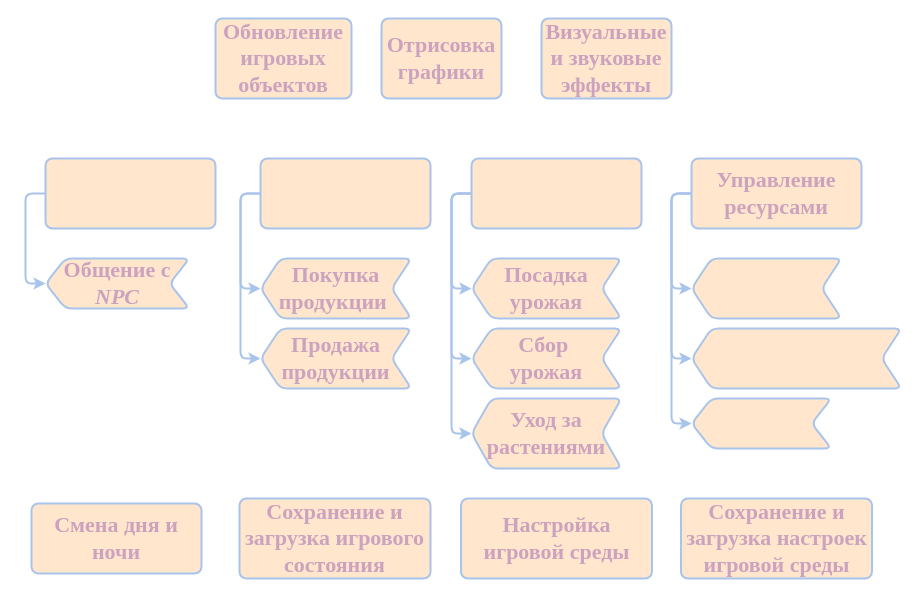
This 919x596 diagram has some shape labels left out. The shapes that lost their labels are listed below. From the top down, each one's centre as x and y in pixels, then its label:
the point at 130,193: Социальное взаимодействие
the point at 345,193: Экономическая система
the point at 556,193: Управление фермой
the point at 766,288: Активный инвентарь
the point at 796,358: Дополнительный инвентарь
the point at 761,423: Сундук
